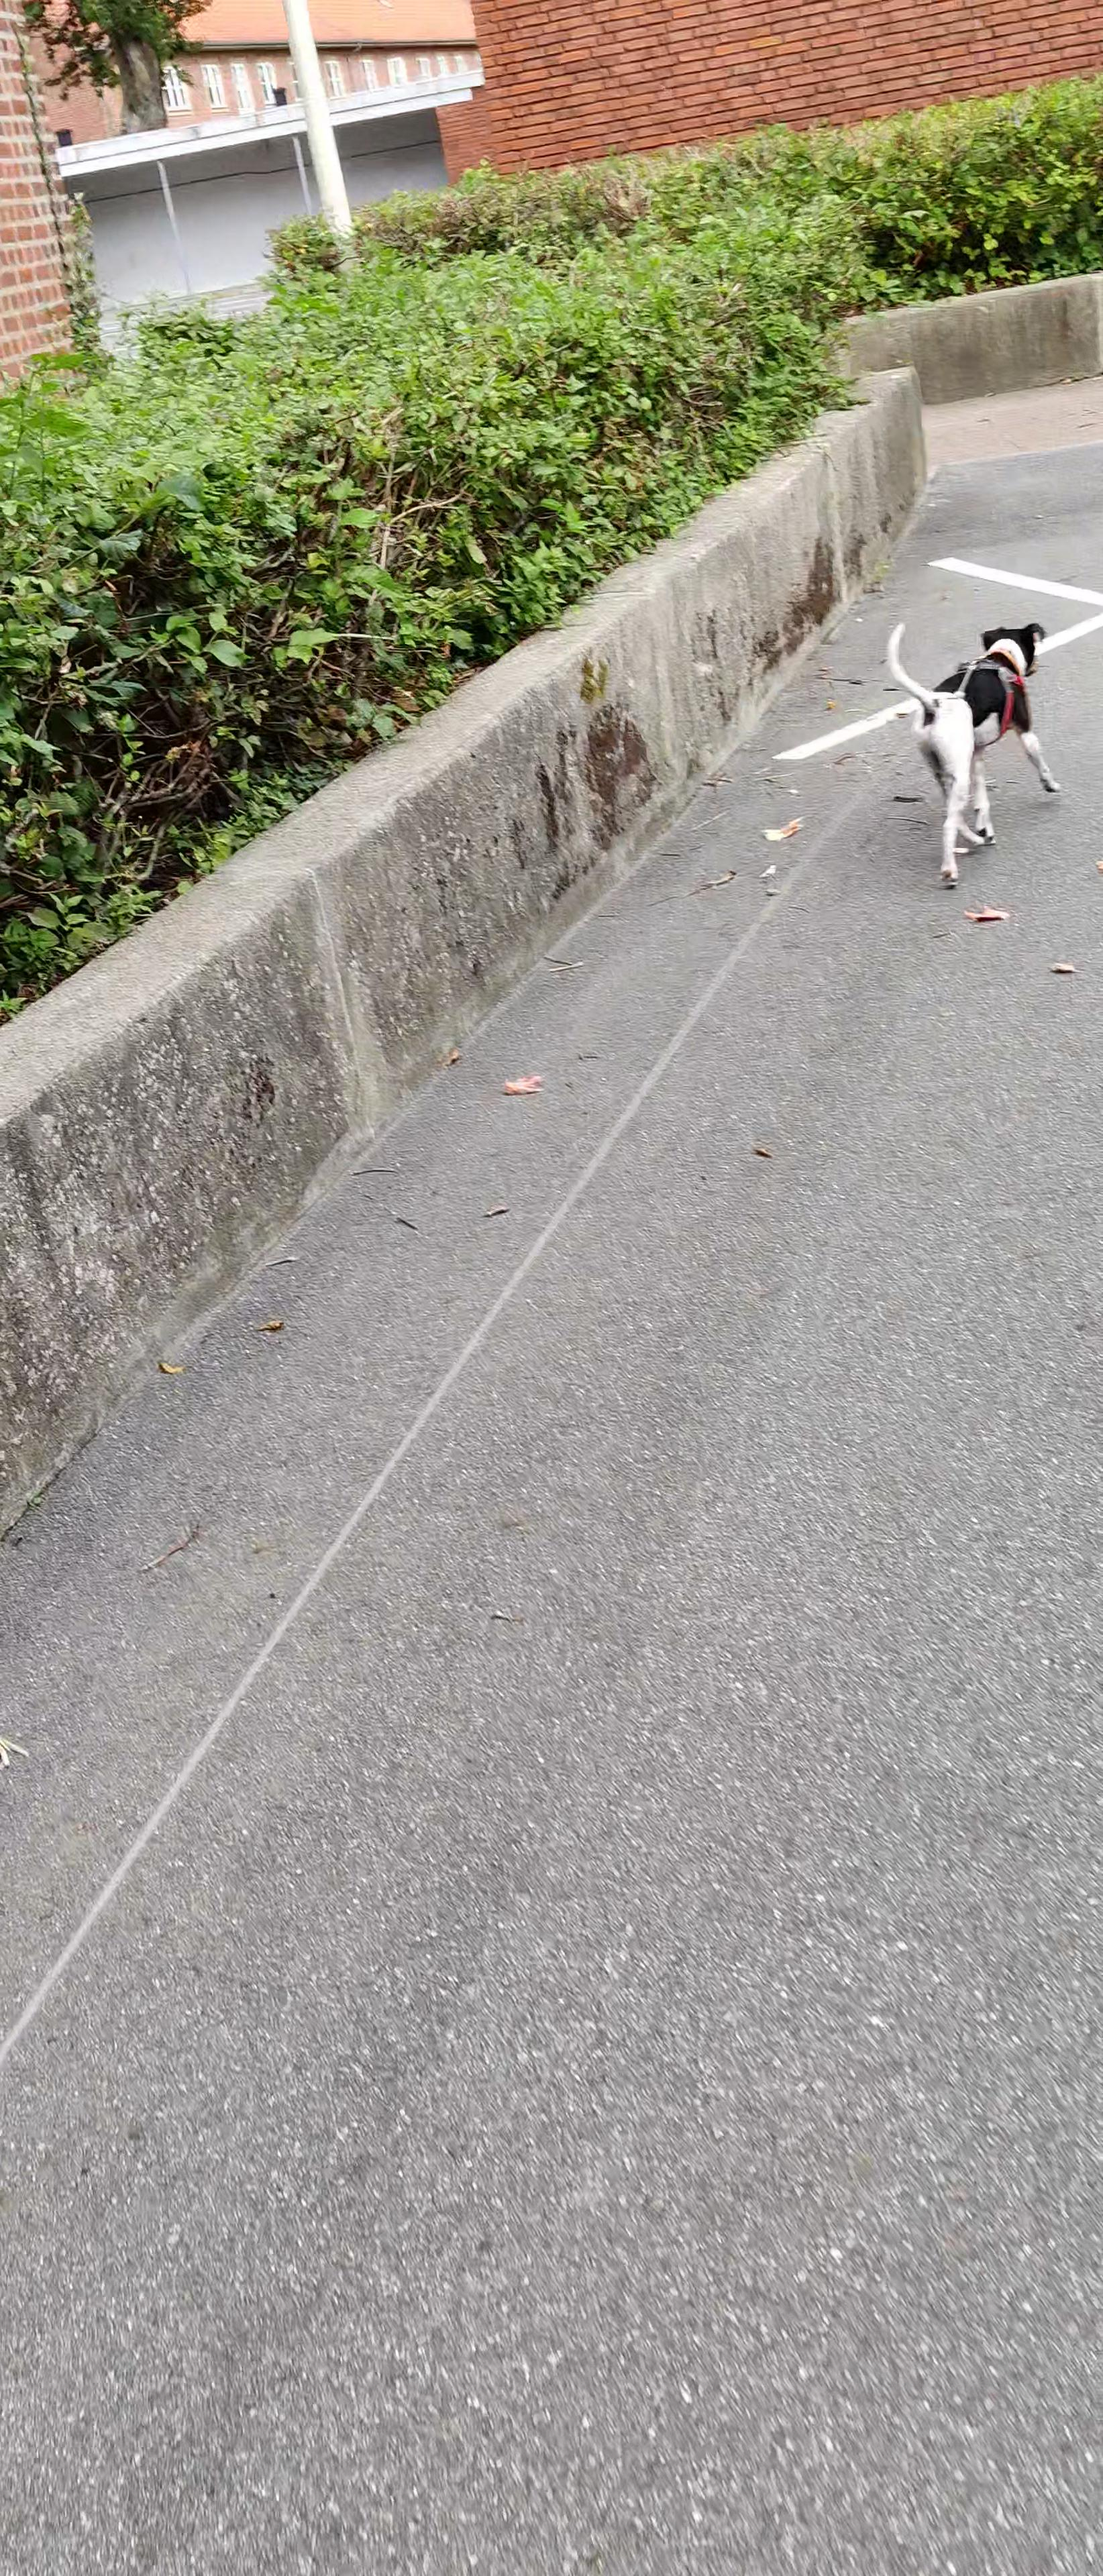Dog: (883, 616, 1065, 889)
